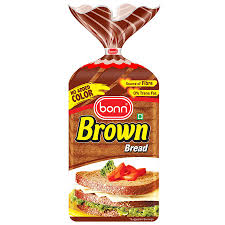bread: (63, 12, 171, 220)
